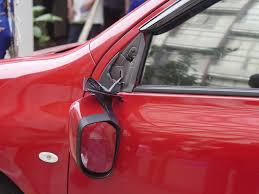Sidemirror-Damage: (65, 58, 127, 183)
